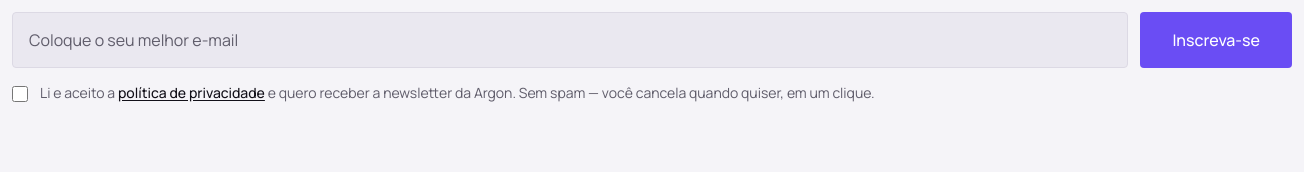
NewsletterForm › rejects a malformed email and keeps what was typed
The width and height of the screenshot is (1304, 172).
Type "ana@example" into the field named "Seu e-mail" at (570, 40), box top-left (12, 12), bottom-right (1128, 68)
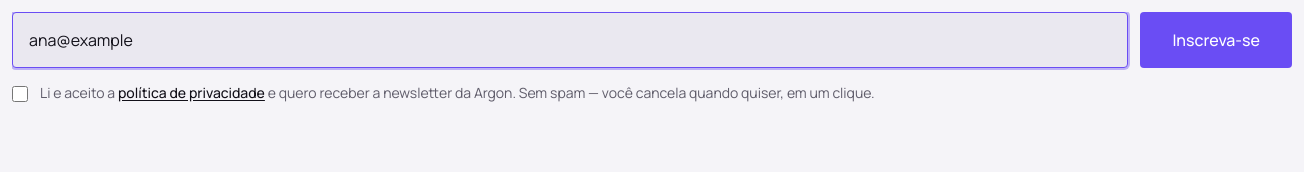
Click the button "Inscreva-se" at (1216, 40), box top-left (1140, 12), bottom-right (1292, 68)
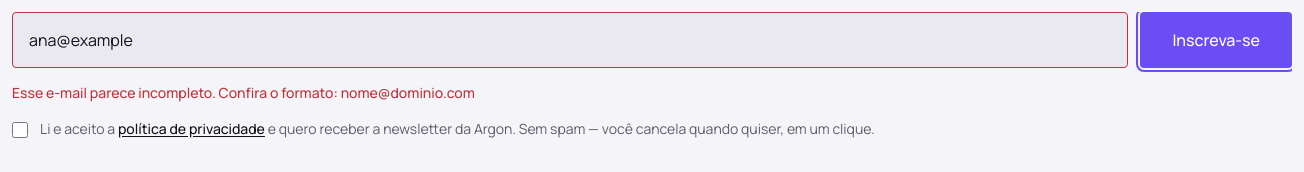
Expected: the message reads "Esse e-mail parece incompleto. Confira o formato: nome@dominio.com", top-left (12, 84), bottom-right (475, 103)
